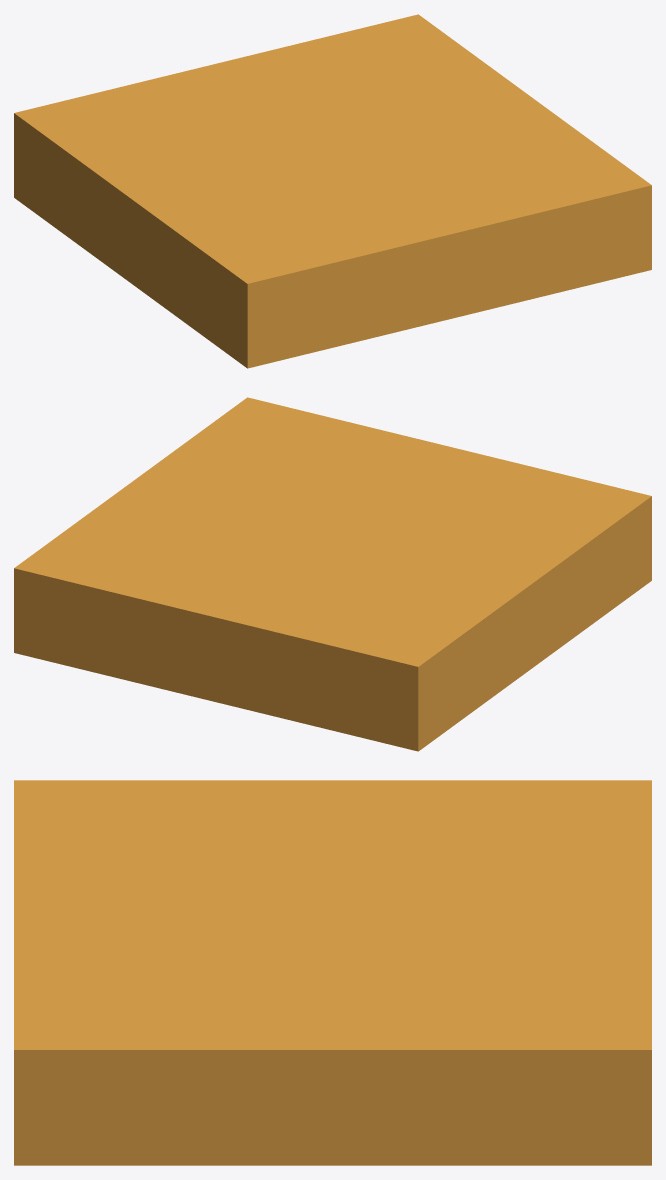
The model's file is tiles-tile-runway-turn.glb.
3 views of the same model, one above another, from view 1: azimuth 30°, elevation 25°; view 2: azimuth 150°, elevation 25°; view 3: azimuth 270°, elevation 25° (orthographic). The views are drawn at different scales.
Parts seen in each view (by area): view 1: tile-runway-turn; view 2: tile-runway-turn; view 3: tile-runway-turn.
Part boxes in pixels (x1=…): tile-runway-turn: x1=14, y1=14, x2=651, y2=368; tile-runway-turn: x1=14, y1=397, x2=651, y2=751; tile-runway-turn: x1=14, y1=780, x2=651, y2=1165.
Bounding box in the file's own units: 30 × 6 × 30.
